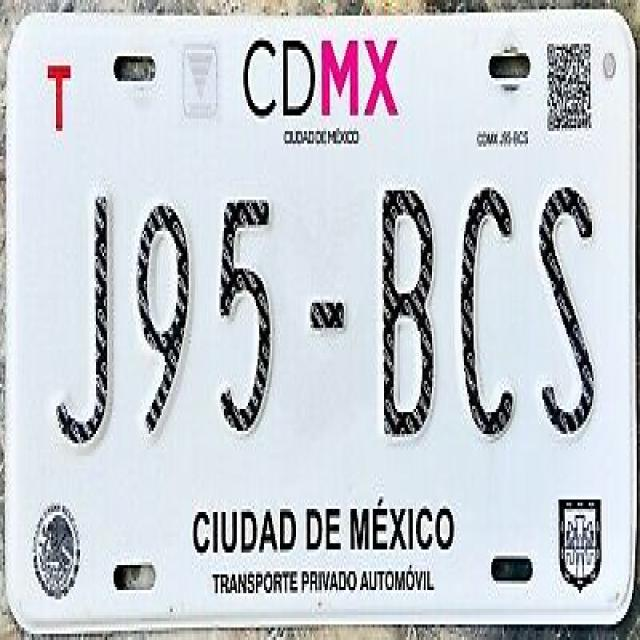placa: (20, 156, 634, 468)
